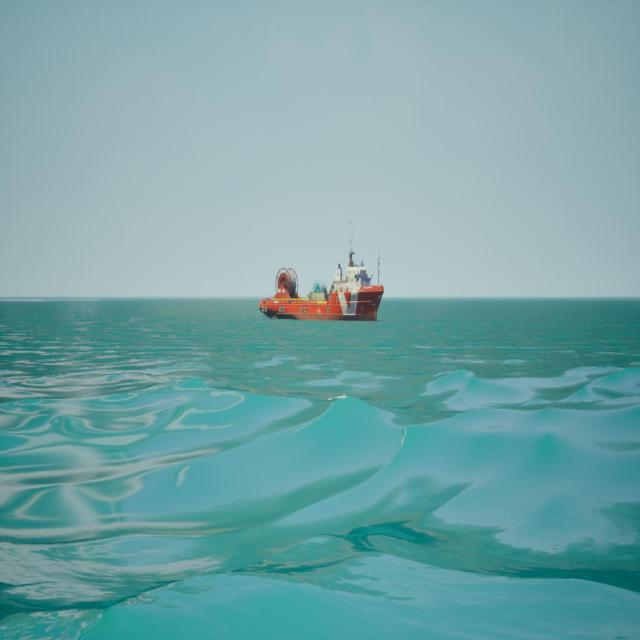tug boat: (262, 218, 385, 324)
